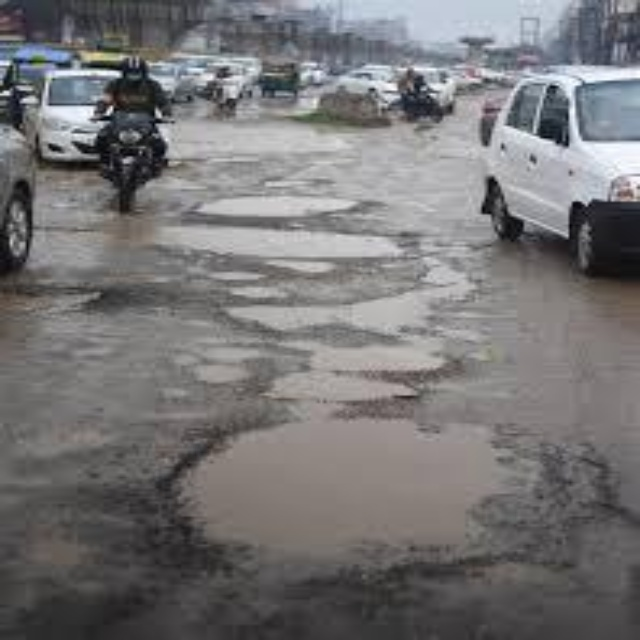pothole: (181, 292, 520, 587)
